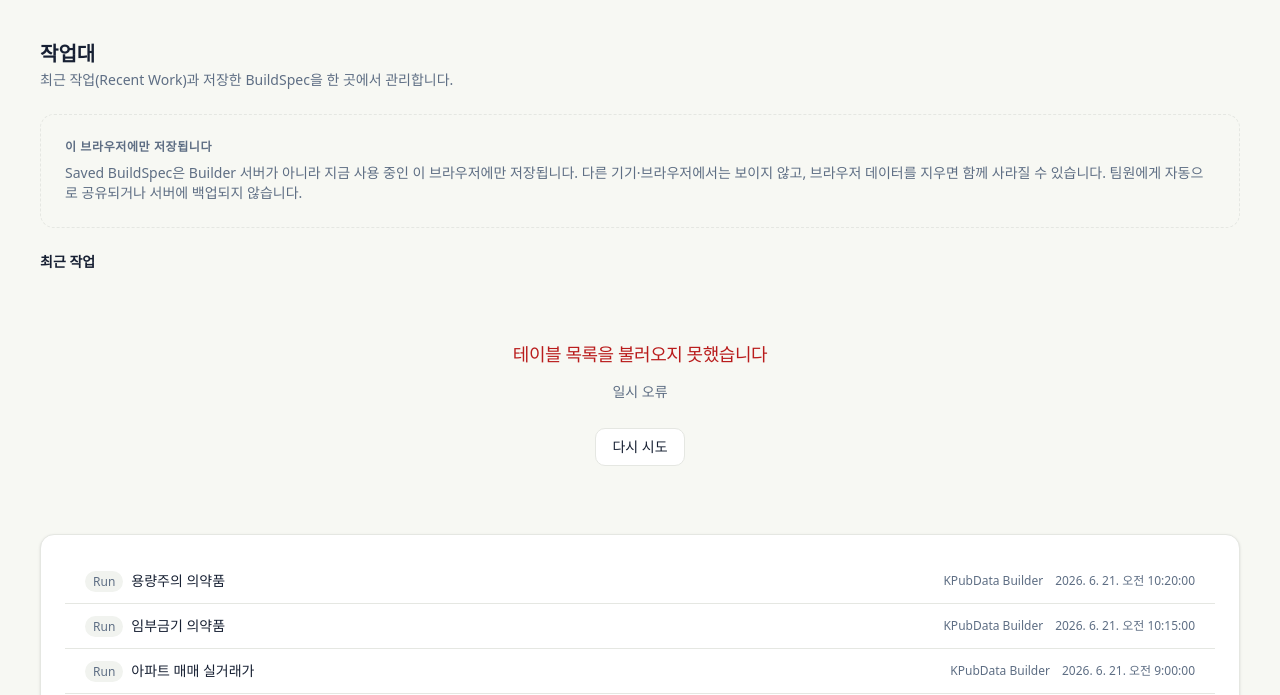
Test: Recent Work › retries the failed dataset load without affecting the build load
This screenshot has width=1280, height=695.
Expected: the text "테이블 목록을 불러오지 못했습니다" is shown, [513,340,767,368]
Click the button "다시 시도" at (640, 447), box [595,428,685,466]
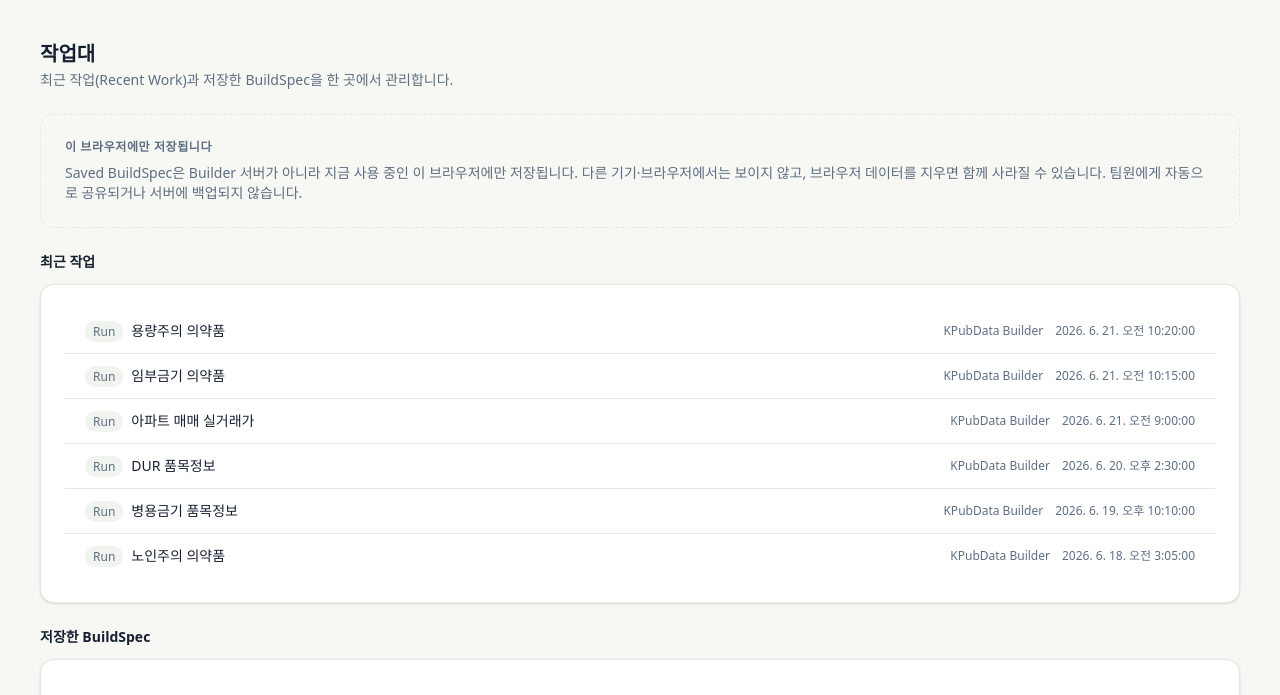
Expected: the text "테이블 목록을 불러오지 못했습니다" is gone
